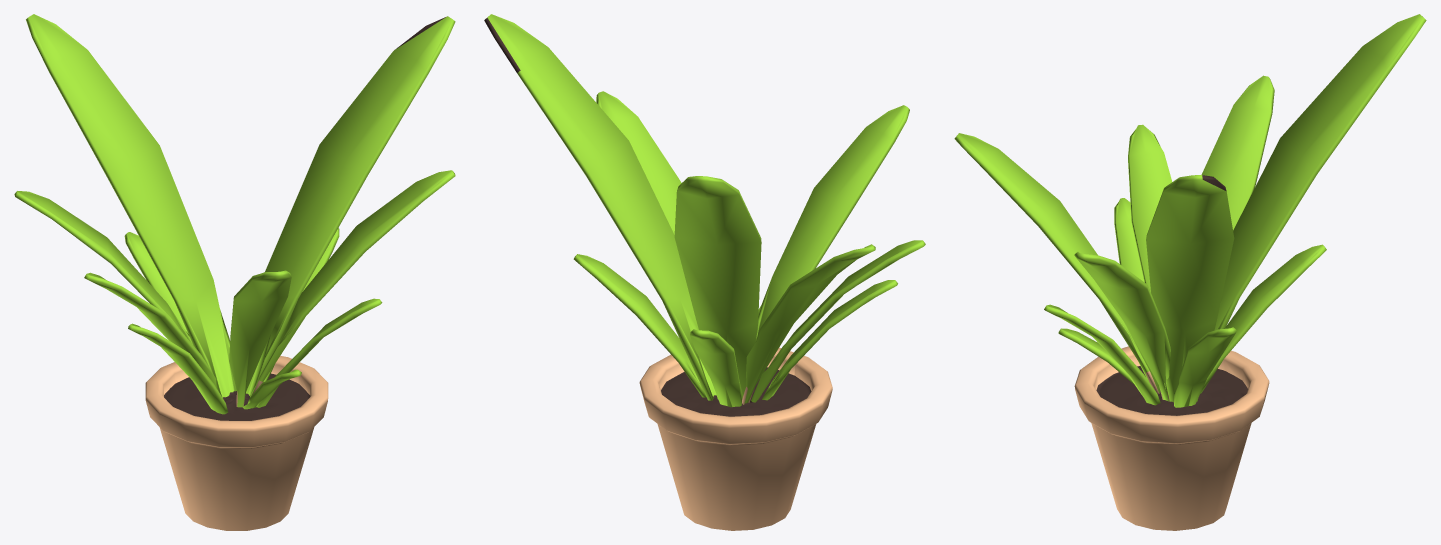
Rendered from plant.glb.
3 views of the same model, side by side, from view 1: azimuth 30°, elevation 25°; view 2: azimuth 150°, elevation 25°; view 3: azimuth 270°, elevation 25° (orthographic). The views are drawn at different scales.
Parts seen in each view (by area): view 1: Cylinder.037; view 2: Cylinder.037; view 3: Cylinder.037.
Boxes of the visible parts, left/top/right/bottom form: Cylinder.037: left=14, top=14, right=455, bottom=530; Cylinder.037: left=484, top=14, right=925, bottom=530; Cylinder.037: left=954, top=14, right=1426, bottom=530.
Bounding box in the file's own units: 4.35 × 4.38 × 4.18.
